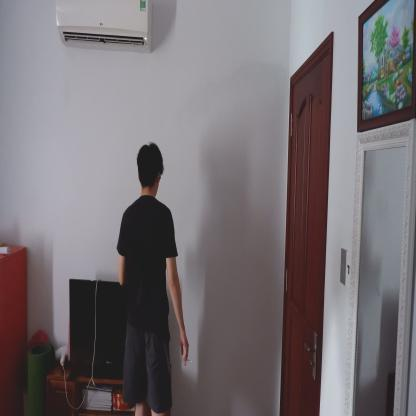cigarette: (186, 358, 193, 364)
person: (117, 141, 187, 415)
